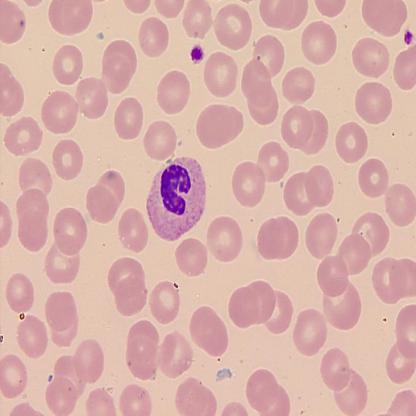Band Neutrophil: (144, 154, 209, 241)
